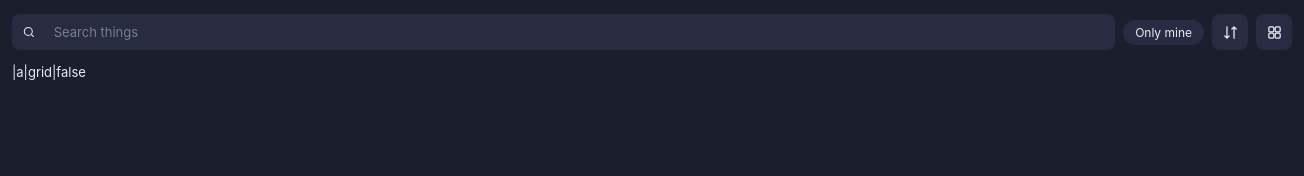
ListToolbar › remembers the sort and the view, and falls back to the defaults for a value it does not know
The image size is (1304, 176).
Click the button named "Sort" at (1230, 32), box [1212,14,1248,50]
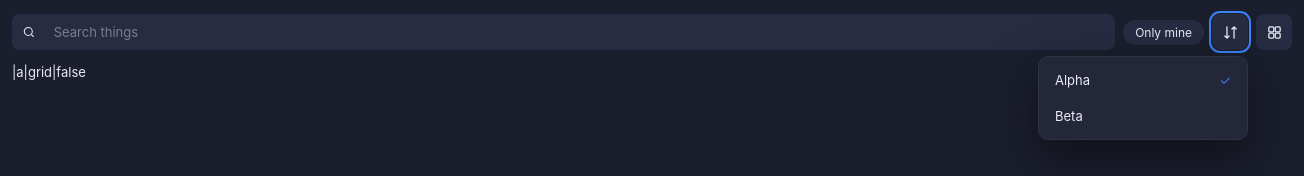
Click the menu item "Beta" at (1143, 116), box [1045,99,1241,133]
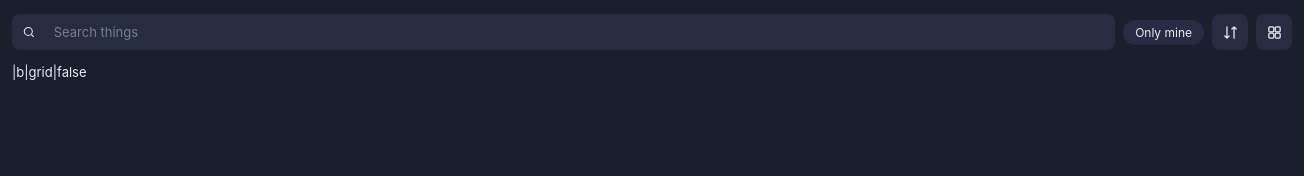
Click the button named "View" at (1274, 32), box [1256,14,1292,50]
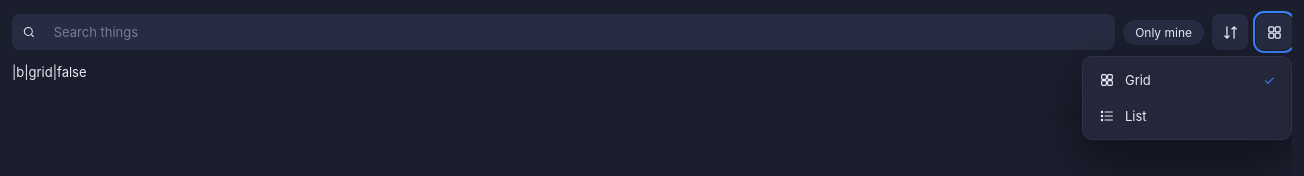
Click the menu item "List" at (1187, 116), box [1089,99,1285,133]
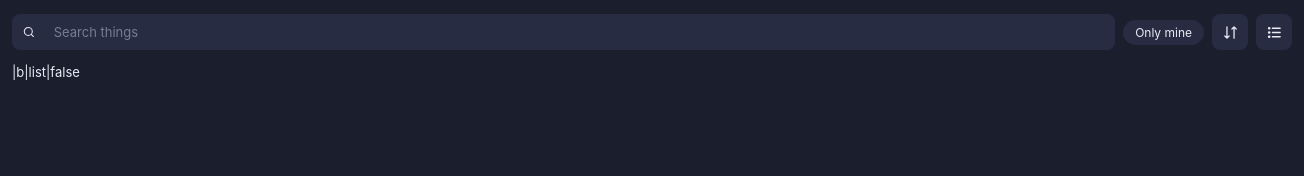
Result: the text with test id "state" reads "|b|list|false" at [12,64,80,80]
